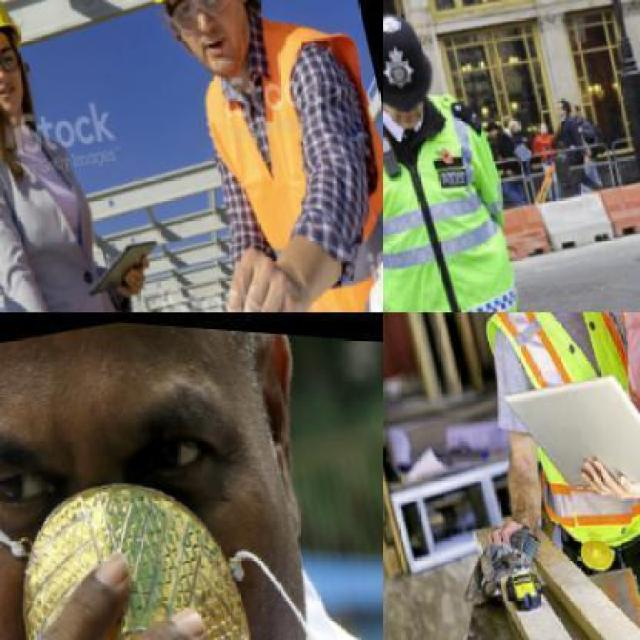Vest: (172, 0, 382, 311), (446, 312, 639, 578), (383, 78, 552, 311)
